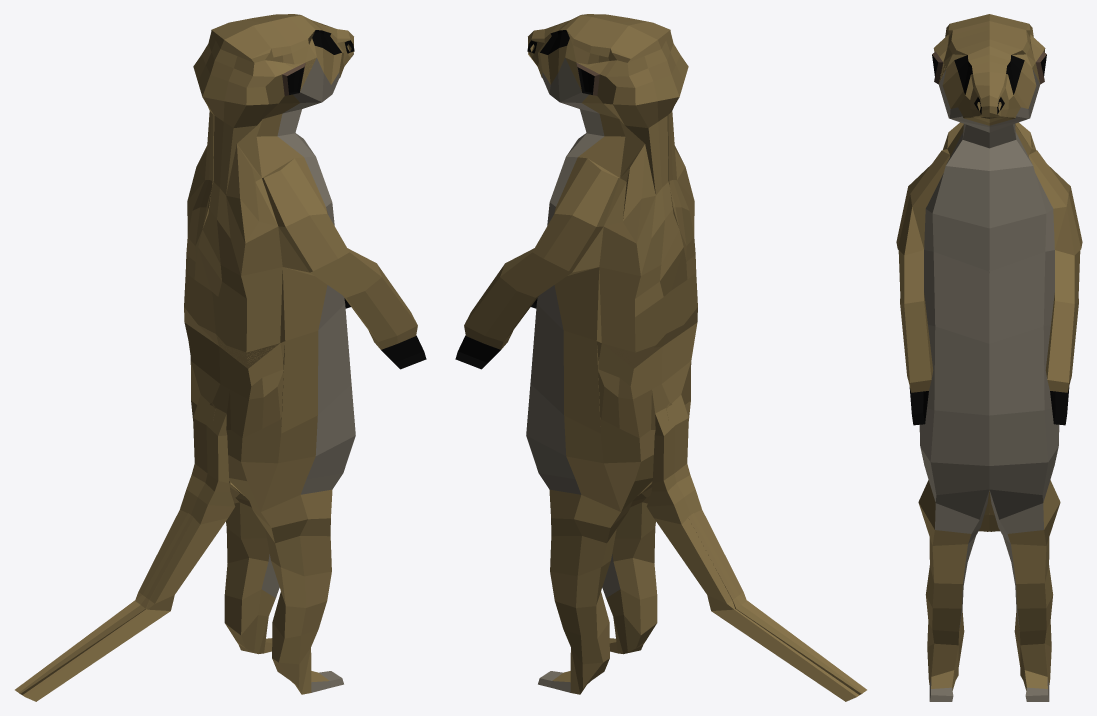
Rendered from MeerkatColour.fbx.
3 views of the same model, side by side, from view 1: azimuth 30°, elevation 25°; view 2: azimuth 150°, elevation 25°; view 3: azimuth 270°, elevation 25° (orthographic).
Visible parts, largest first — view 1: Cube; view 2: Cube; view 3: Cube.
Part boxes in pixels (bbox=[...]): Cube: bbox=[15, 14, 426, 701]; Cube: bbox=[455, 14, 866, 701]; Cube: bbox=[896, 14, 1082, 701].
Size of the model in its own units: 33.98 by 56.53 by 14.64.
